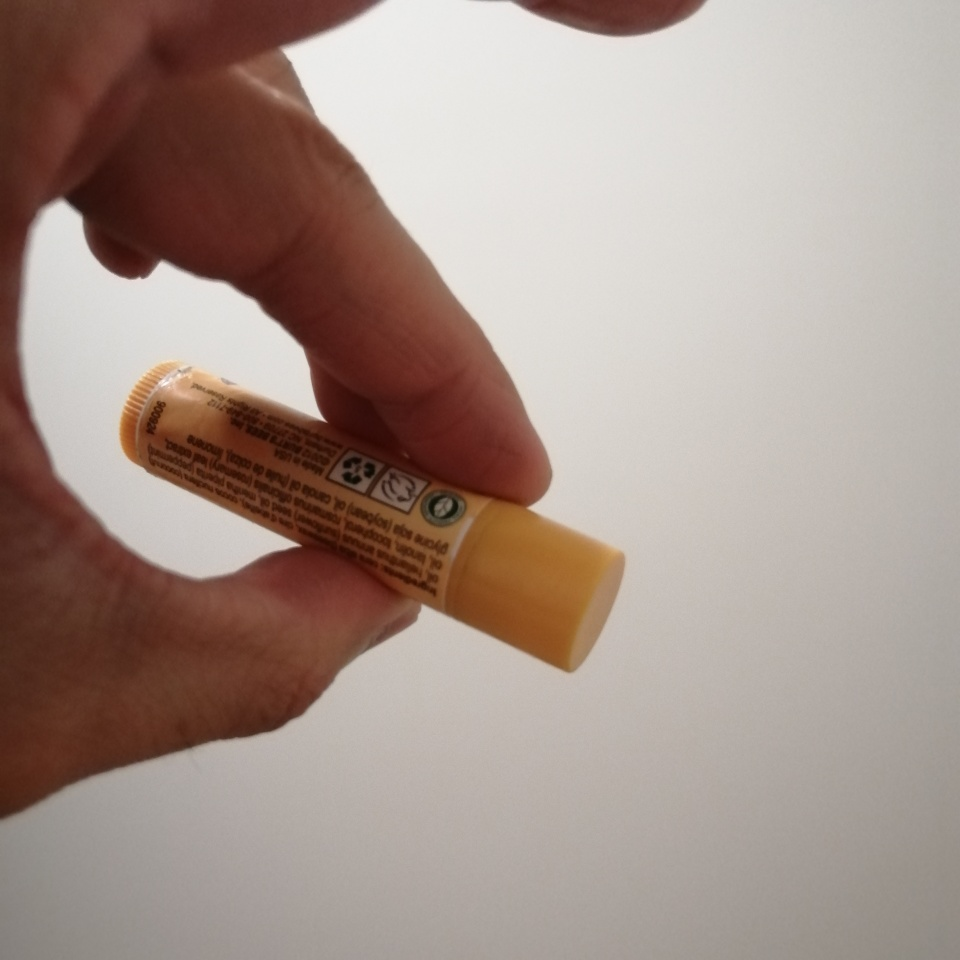chapstick: (118, 360, 626, 673)
